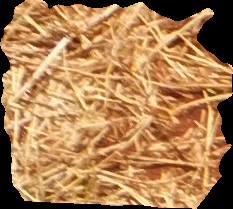soil: (5, 2, 225, 205)
